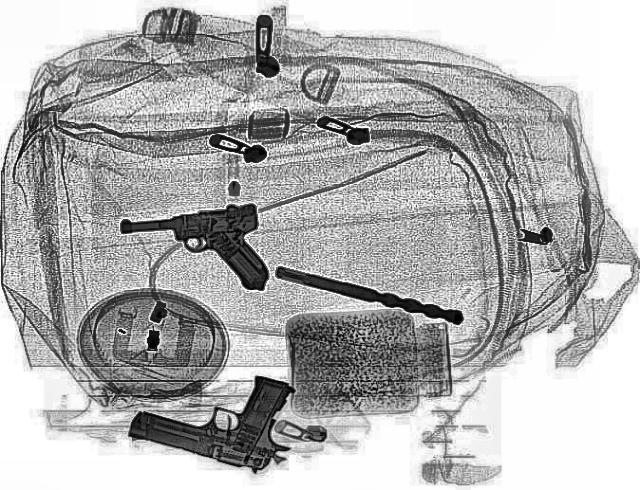Gun: (120, 348, 318, 478), (117, 199, 276, 304)
